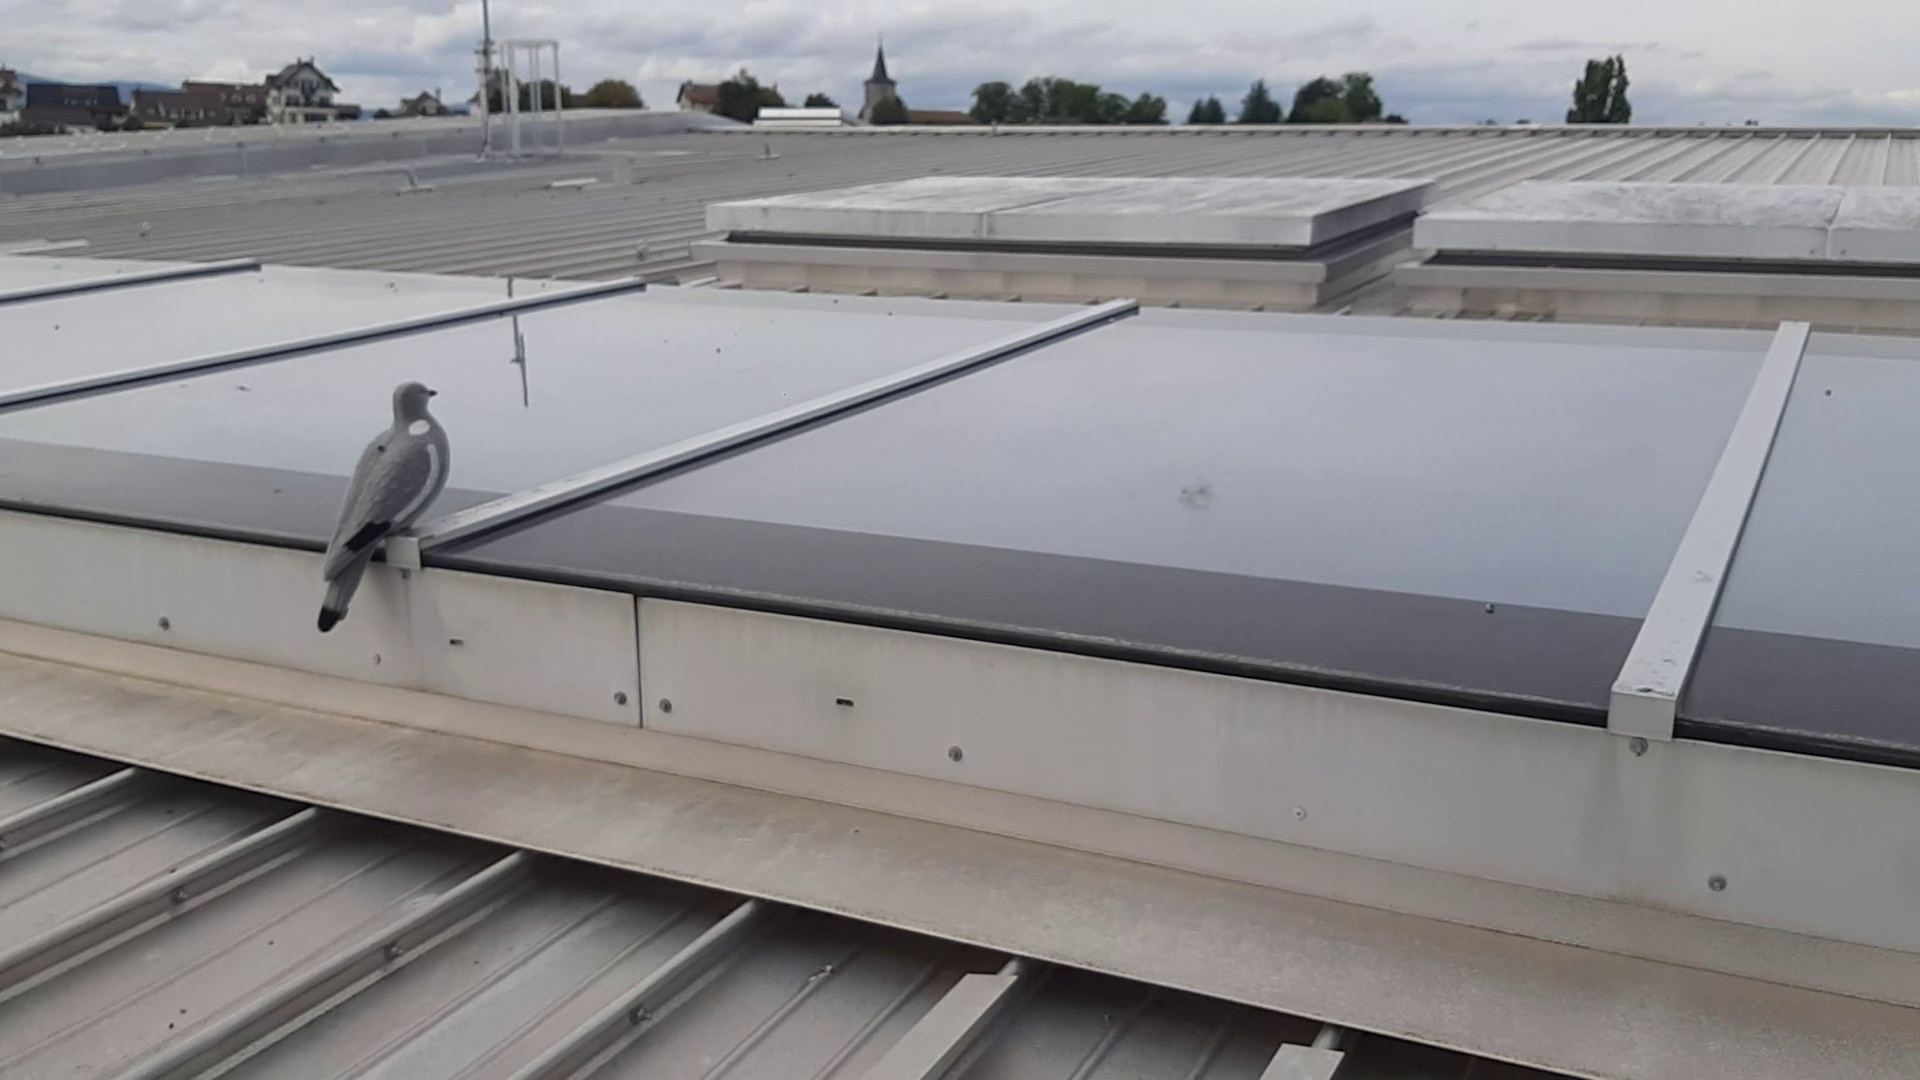Pigeon: (316, 381, 459, 626)
